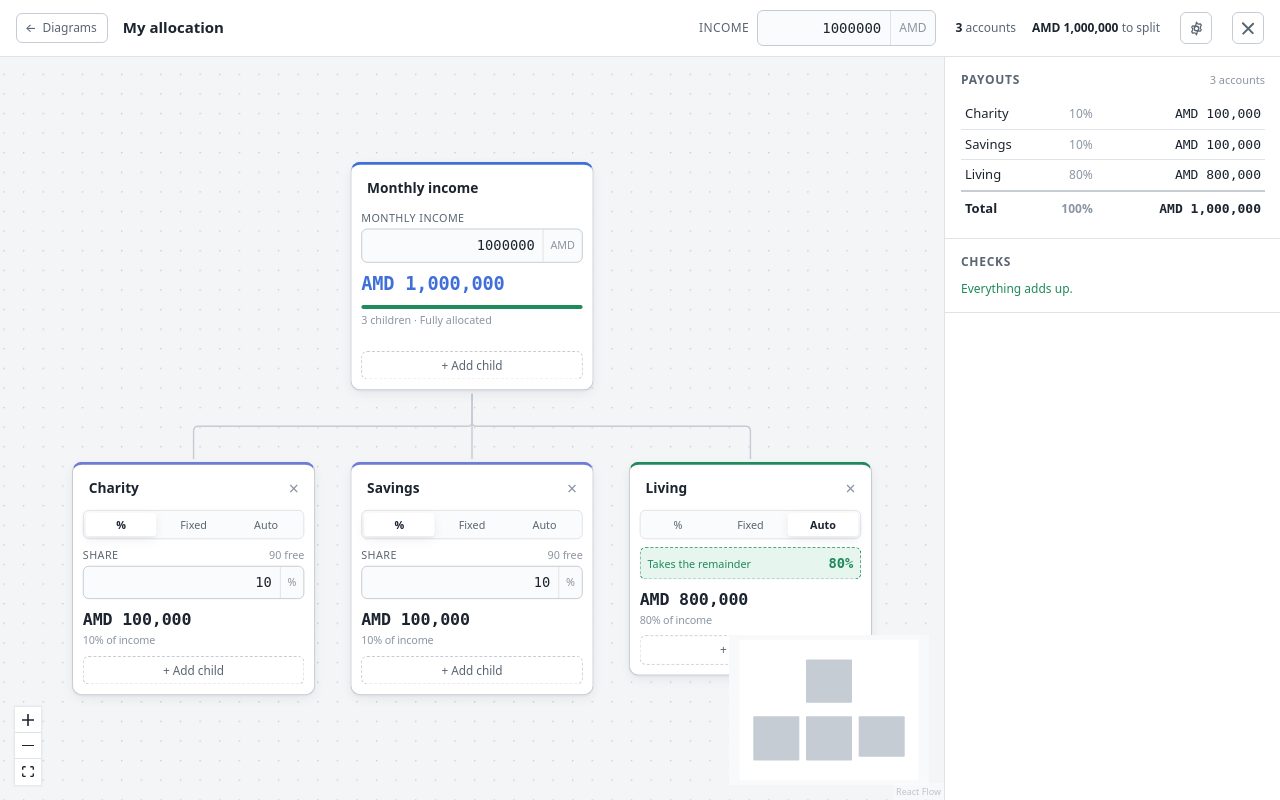
Scenario: the language toggle › translates the editor, including the engine’s own messages
The width and height of the screenshot is (1280, 800).
Expected: the text "Everything adds up." is shown, [961,280,1073,298]
Click the button named "Settings" at (1196, 28), box [1180,12,1212,44]
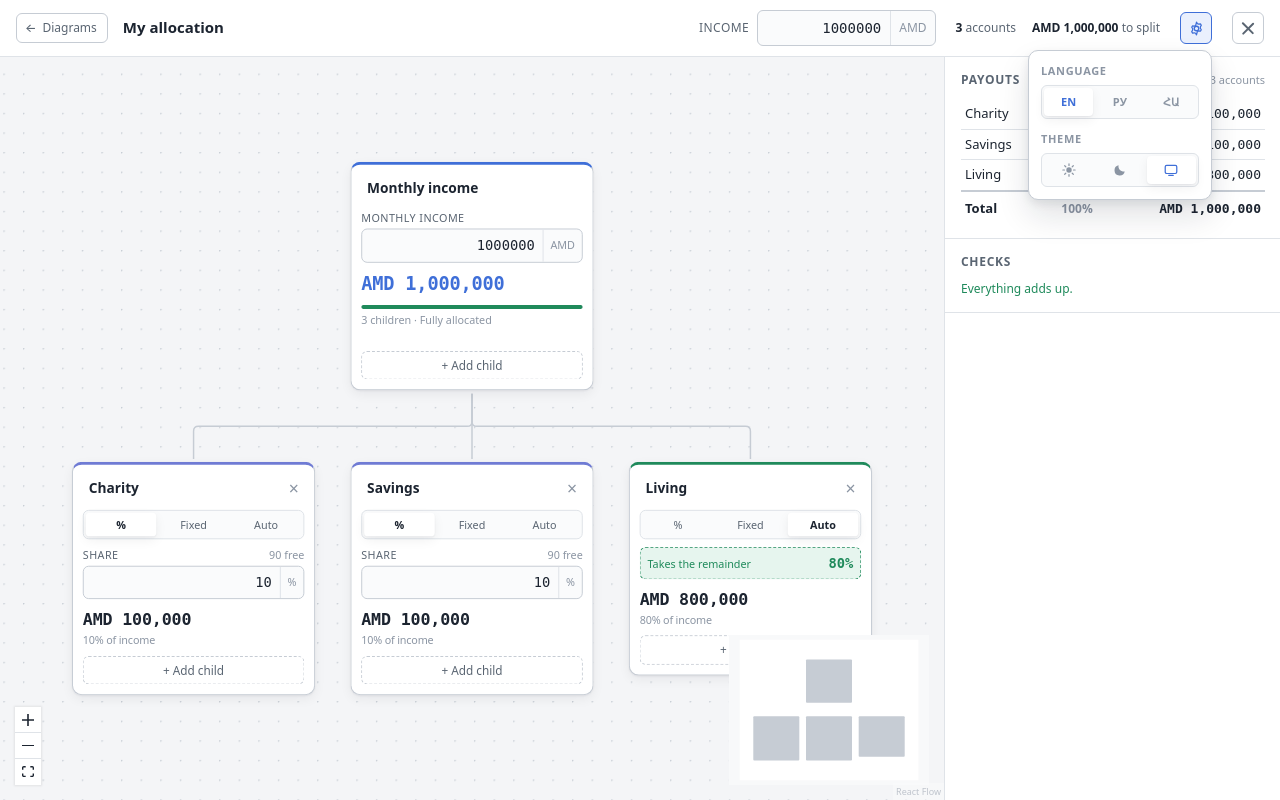
Click the button with aria-label "Русский" at (1120, 102), box [1095,88,1145,116]
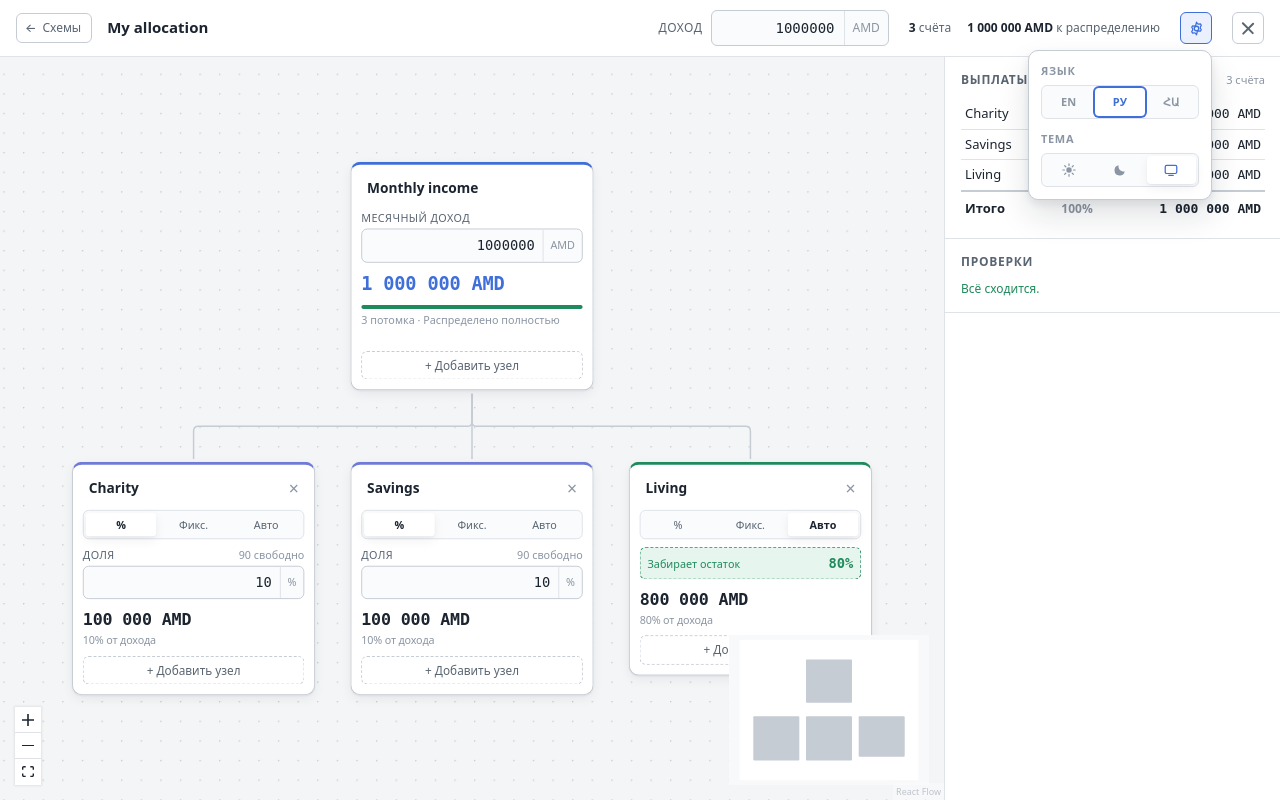
Expected: the text "Всё сходится." is shown, [961,280,1040,298]
Expected: the heading "Выплаты" is shown, [961,71,1028,89]
